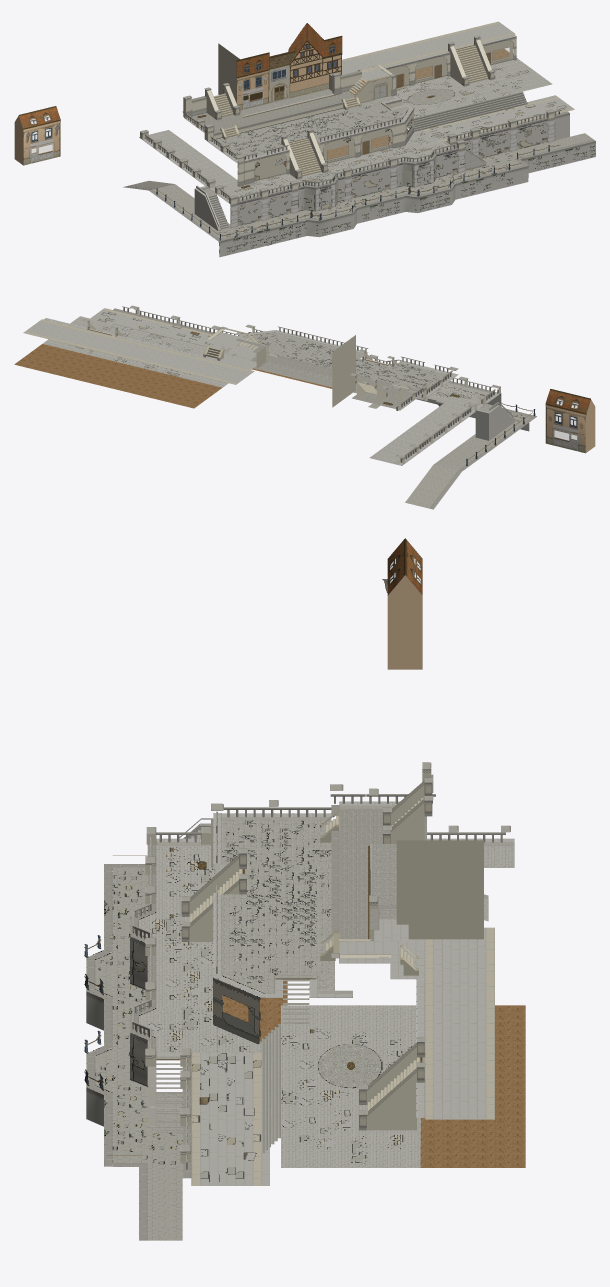
The model's file is Waterfront.gltf.
3 views of the same model, one above another, from view 1: azimuth 30°, elevation 25°; view 2: azimuth 150°, elevation 25°; view 3: azimuth 270°, elevation 25° (orthographic). The views are drawn at different scales.
Parts seen in each view (by area): view 1: default, market_place_buildings-col, ground_6_lvl_2-col (×3), staircase_big_lvl_2-col (×2), wall_lower_bulge_lvl_1-col (×2), ground_3_lvl_3-col, wall_bulge_lvl_1-col (×2), ground_4_lvl_3-col, wall_lower_2_lvl_1-col (×3), wall_upper_3_lvl_1-col (×2), ground_7_lvl_2-col, wall_arch_window_door_left_lvl_2-col (×2) (+27 smaller); view 2: default, ground_6_lvl_2-col (×3), ground_7_lvl_2-col, ground_4_lvl_3-col, ground_3_lvl_3-col, ground_3_lvl_4-col, ground_2_lvl_4-col, ground_4_lvl_4-col, floor_slope_down_lvl_1-col, market_place_buildings-col, ground_5_lvl_2-col, ground_1_lvl_3-col (+7 smaller); view 3: default, ground_6_lvl_2-col (×3), ground_3_lvl_3-col, market_place_buildings-col, ground_5_lvl_2-col, ground_4_lvl_3-col, staircase_big_lvl_2-col (×2), ground_1_lvl_3-col, ground_3_lvl_4-col, ground_4_lvl_4-col, floor_5_lvl_1-col, ground_2_lvl_4-col (+17 smaller).
Boxes of the visible parts, x1,y1,x2,y2 form: default: (14, 49, 593, 245); market_place_buildings-col: (218, 23, 342, 110); ground_6_lvl_2-col (×3): (422, 58, 574, 142); staircase_big_lvl_2-col (×2): (281, 35, 495, 179); wall_lower_bulge_lvl_1-col (×2): (300, 181, 460, 237); ground_3_lvl_3-col: (291, 95, 408, 140); wall_bulge_lvl_1-col (×2): (298, 151, 443, 211); ground_4_lvl_3-col: (184, 89, 354, 132); wall_lower_2_lvl_1-col (×3): (360, 139, 595, 222); wall_upper_3_lvl_1-col (×2): (447, 111, 569, 157); ground_7_lvl_2-col: (139, 130, 237, 186); wall_arch_window_door_left_lvl_2-col (×2): (356, 34, 517, 157); default: (14, 312, 595, 453); ground_6_lvl_2-col (×3): (42, 308, 248, 360); ground_7_lvl_2-col: (369, 402, 475, 465); ground_4_lvl_3-col: (250, 354, 423, 410); ground_3_lvl_3-col: (220, 332, 364, 368); ground_3_lvl_4-col: (97, 337, 197, 370); ground_2_lvl_4-col: (179, 352, 256, 384); ground_4_lvl_4-col: (23, 319, 115, 350); floor_slope_down_lvl_1-col: (405, 465, 461, 509); market_place_buildings-col: (332, 335, 355, 407); ground_5_lvl_2-col: (119, 335, 252, 387); ground_1_lvl_3-col: (376, 362, 455, 397); default: (98, 538, 525, 1240); ground_6_lvl_2-col (×3): (191, 1053, 420, 1185); ground_3_lvl_3-col: (222, 894, 352, 997); market_place_buildings-col: (396, 840, 483, 939); ground_5_lvl_2-col: (281, 1005, 416, 1101); ground_4_lvl_3-col: (339, 801, 426, 941); staircase_big_lvl_2-col (×2): (181, 848, 425, 1130); ground_1_lvl_3-col: (222, 813, 332, 864); ground_3_lvl_4-col: (425, 979, 494, 1053); ground_4_lvl_4-col: (420, 1053, 494, 1119); floor_5_lvl_1-col: (112, 1085, 182, 1166); ground_2_lvl_4-col: (390, 927, 494, 979).
Size of the model in its own units: 135 by 35.81 by 50.5.
Materials: 28 (28 with a texture image).
